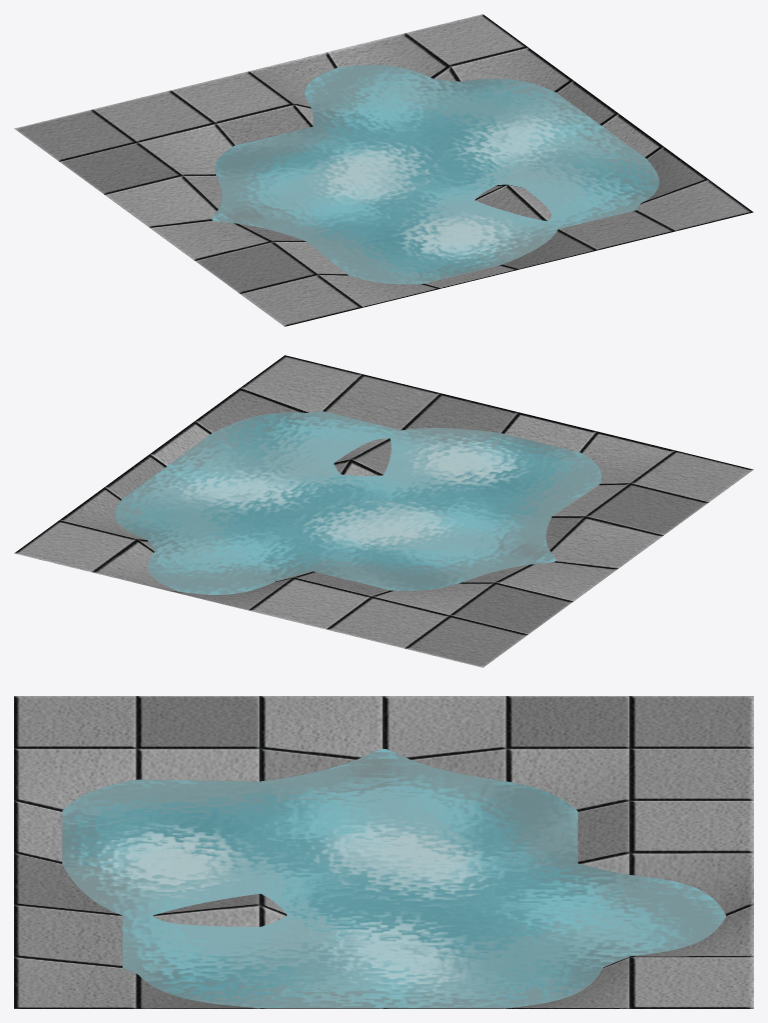
File: Tile04_Water.fbx
3 renders of one model, top to bottom at view 1: azimuth 30°, elevation 25°; view 2: azimuth 150°, elevation 25°; view 3: azimuth 270°, elevation 25°, orthographic. The views are drawn at different scales.
Parts seen in each view (by area): view 1: Tile04_Water; view 2: Tile04_Water; view 3: Tile04_Water.
Part boxes in pixels (x1=…): Tile04_Water: x1=14, y1=14, x2=753, y2=326; Tile04_Water: x1=14, y1=355, x2=753, y2=667; Tile04_Water: x1=14, y1=696, x2=753, y2=1008.
Size of the model in its own units: 1 by 0.0163 by 1.
